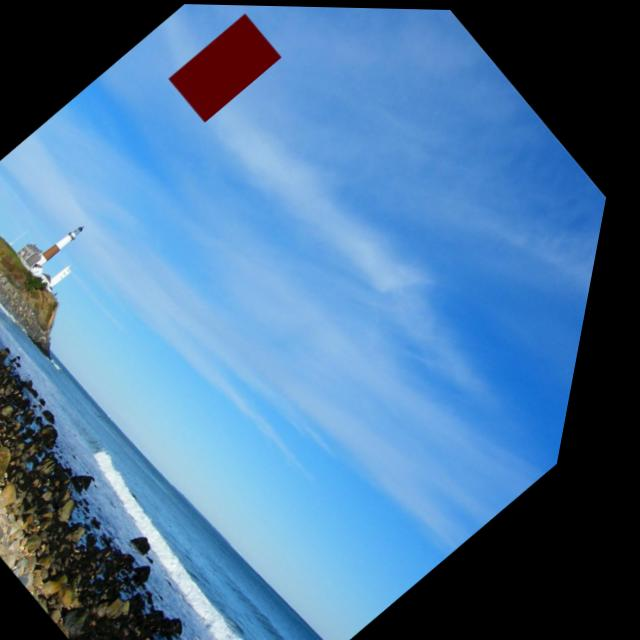RedSquare: (158, 5, 299, 130)
